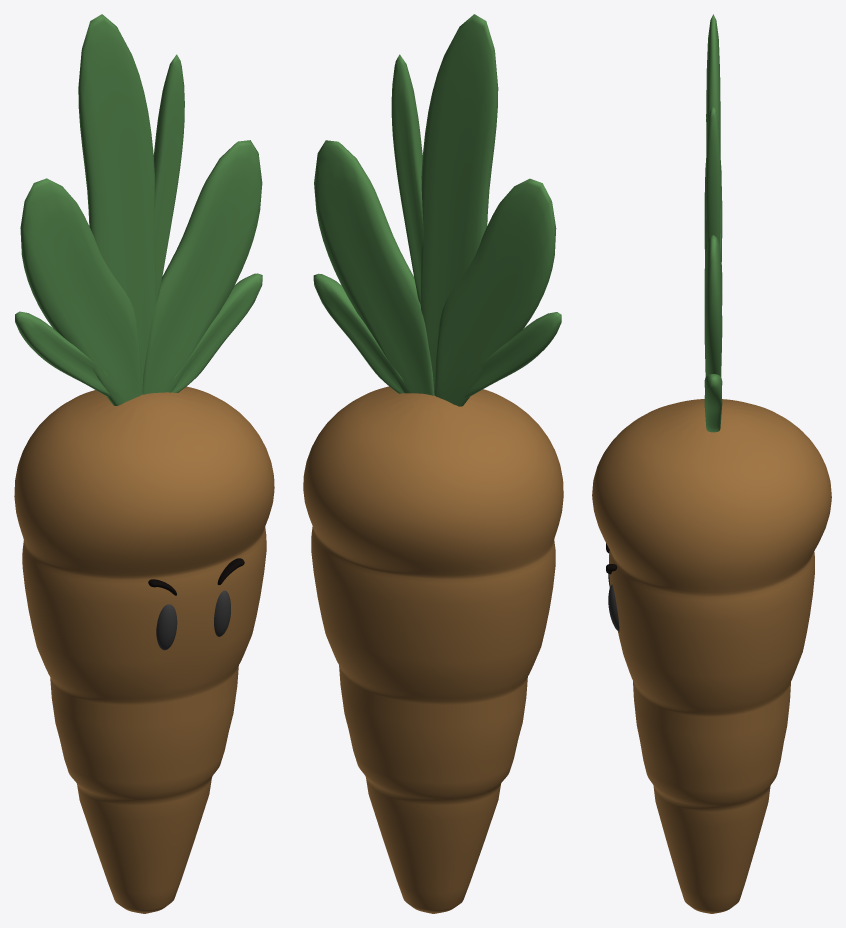
The model's file is Carrot running around.fbx.
3 views of the same model, side by side, from view 1: azimuth 30°, elevation 25°; view 2: azimuth 150°, elevation 25°; view 3: azimuth 270°, elevation 25° (orthographic). The views are drawn at different scales.
Visible parts, largest first — view 1: Carrot2; view 2: Carrot2; view 3: Carrot2.
Part boxes in pixels (x1,y1,x2,y2): Carrot2: [14, 14, 274, 913]; Carrot2: [303, 14, 563, 913]; Carrot2: [592, 14, 831, 913].
Bounding box in the file's own units: 1.94 × 6.82 × 1.69.
